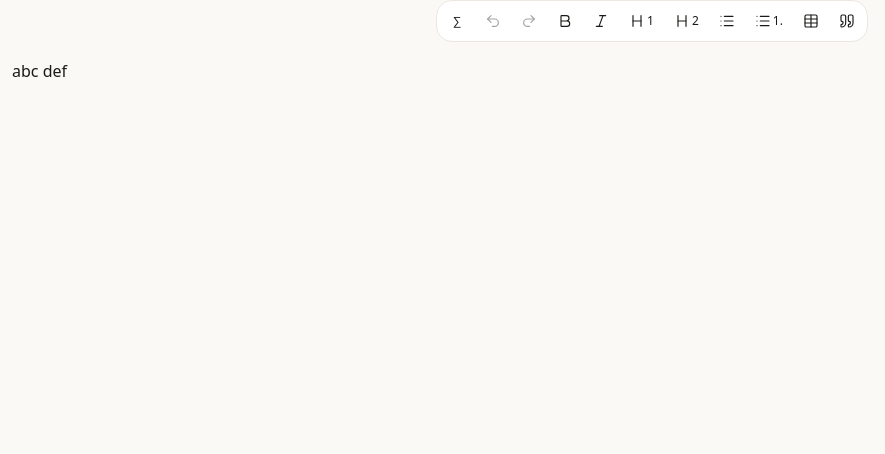
Test: maps a pinned selection and refuses a changed cut while clipboard write is pending
Press F10 in the field named "Canvas", box [12,60,67,82]
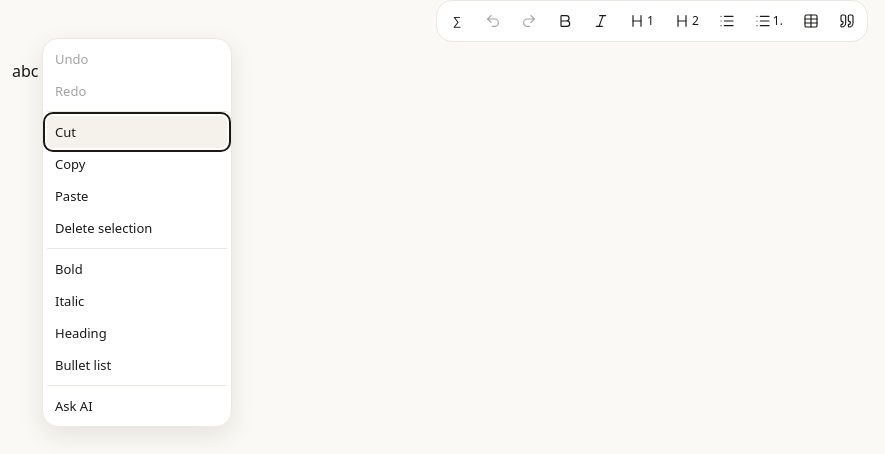
Click the menu item "Cut": (137, 132) [47,116,227,148]
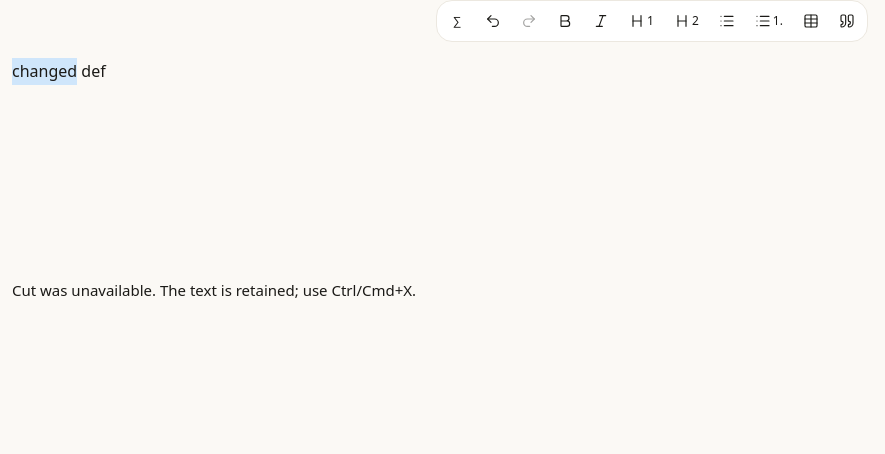
Check: the text box labelled "changed def" is shown, box [12,60,106,82]
Check: the text "Cut was unavailable. The text is retained; use Ctrl/Cmd+X." is shown, box [12,280,416,300]
